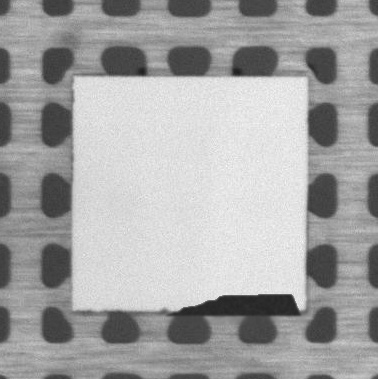DIE_BROKEN: (171, 288, 304, 318)
